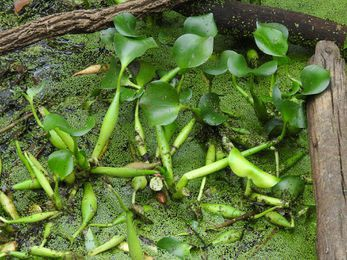water_hyacinth: (0, 13, 327, 257)
